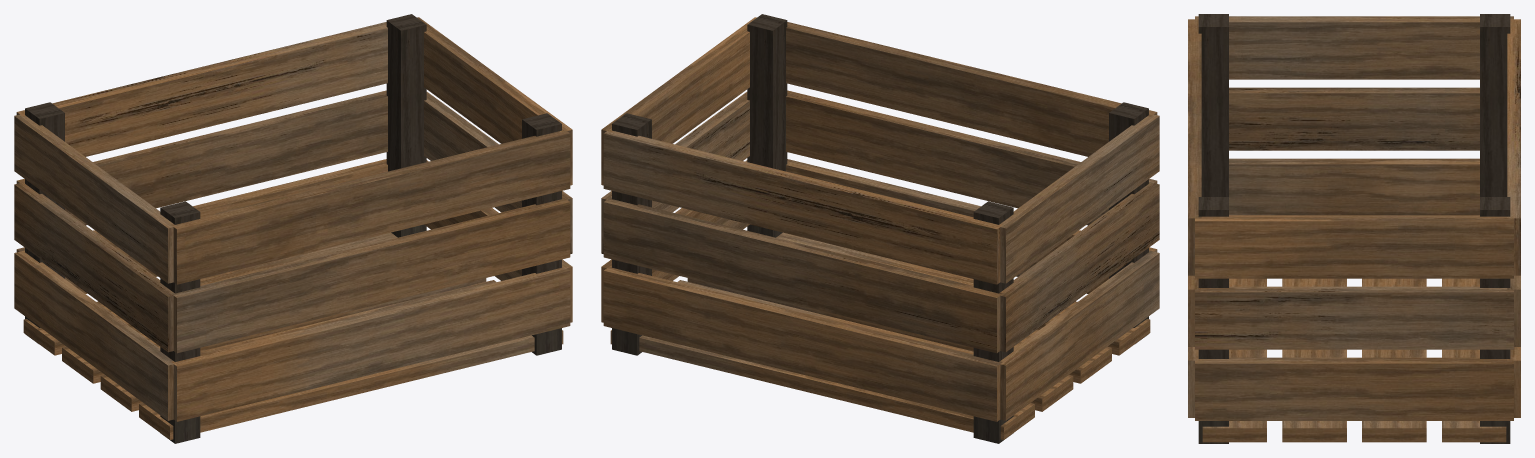
Rendered from crate.glb.
3 renders of one model, left to right at view 1: azimuth 30°, elevation 25°; view 2: azimuth 150°, elevation 25°; view 3: azimuth 270°, elevation 25°, orthographic. The views are drawn at different scales.
Visible parts, largest first — view 1: crate; view 2: crate; view 3: crate.
Boxes of the visible parts, left/top/right/bottom form: crate: left=14, top=14, right=572, bottom=443; crate: left=601, top=14, right=1159, bottom=443; crate: left=1188, top=14, right=1520, bottom=443.
Bounding box in the file's own units: 0.638 × 0.34 × 0.438.
2 materials, 2 textured.
